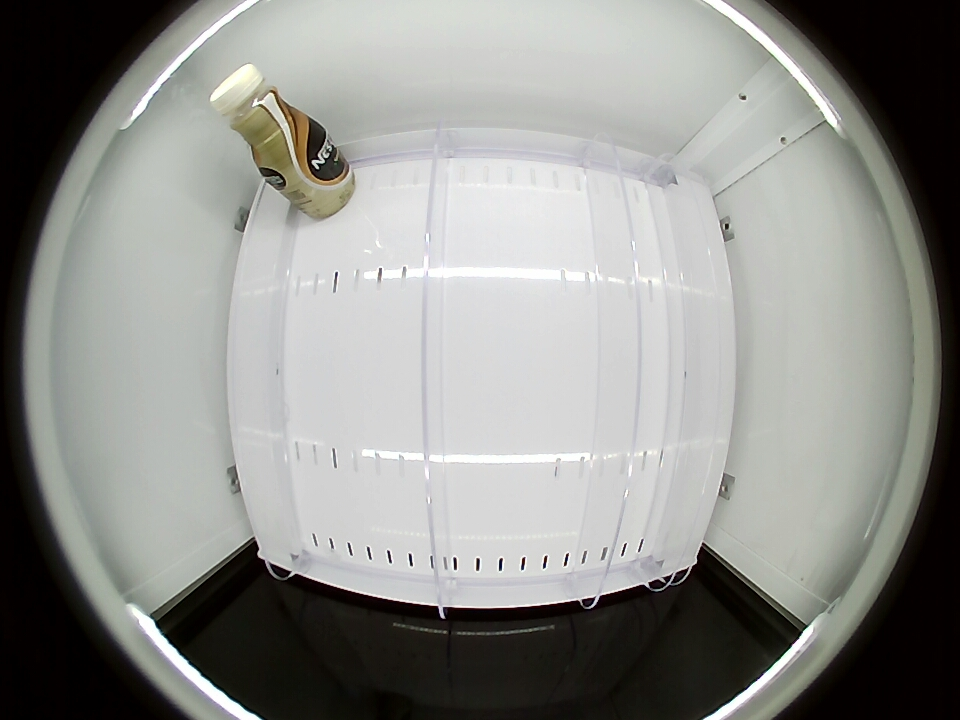kafei: (210, 62, 312, 173)
